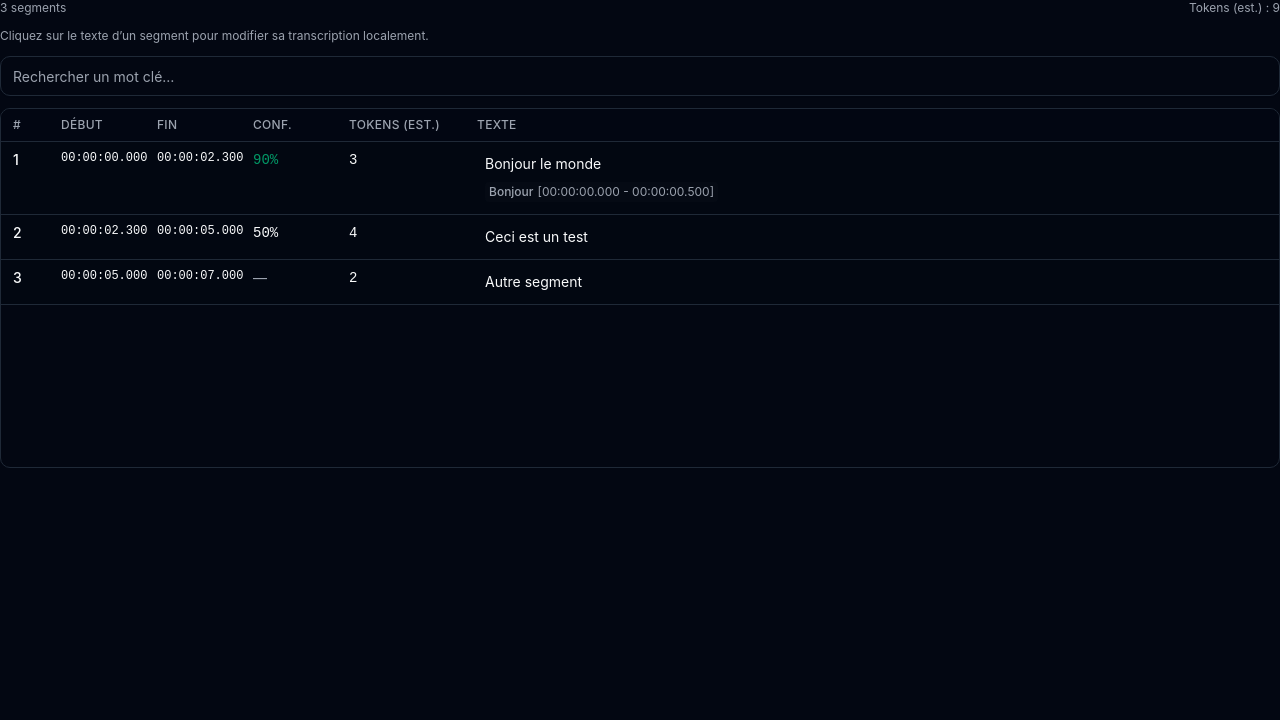
ResultsTable › opens a segment editor and applies the edited text
Click the button with aria-label "modifier le segment 1" at (543, 164), box [477,150,1029,206]
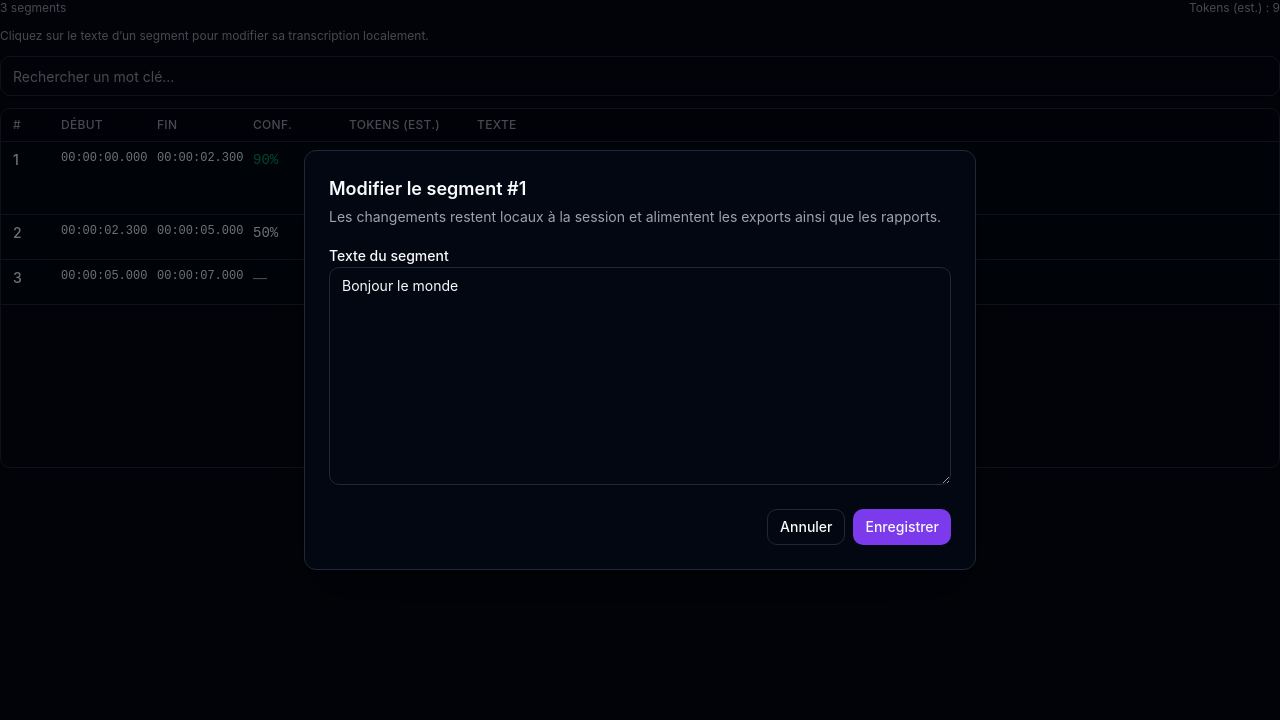
Result: the dialog is shown at [304,150,976,570]
Replace the text in the text box labelled "Texte du segment" with "Bonjour modifié" at (640, 376), box [329,267,951,485]
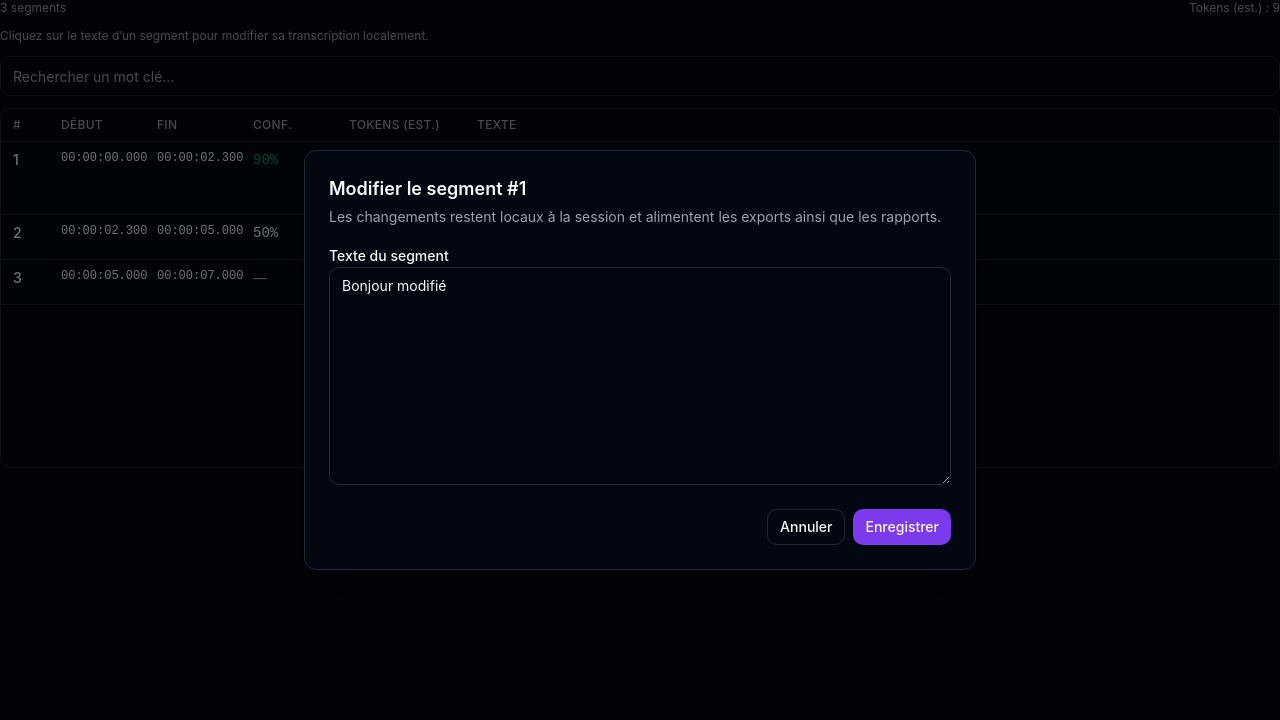
Click the button "Enregistrer" at (902, 527), box [854,509,951,545]
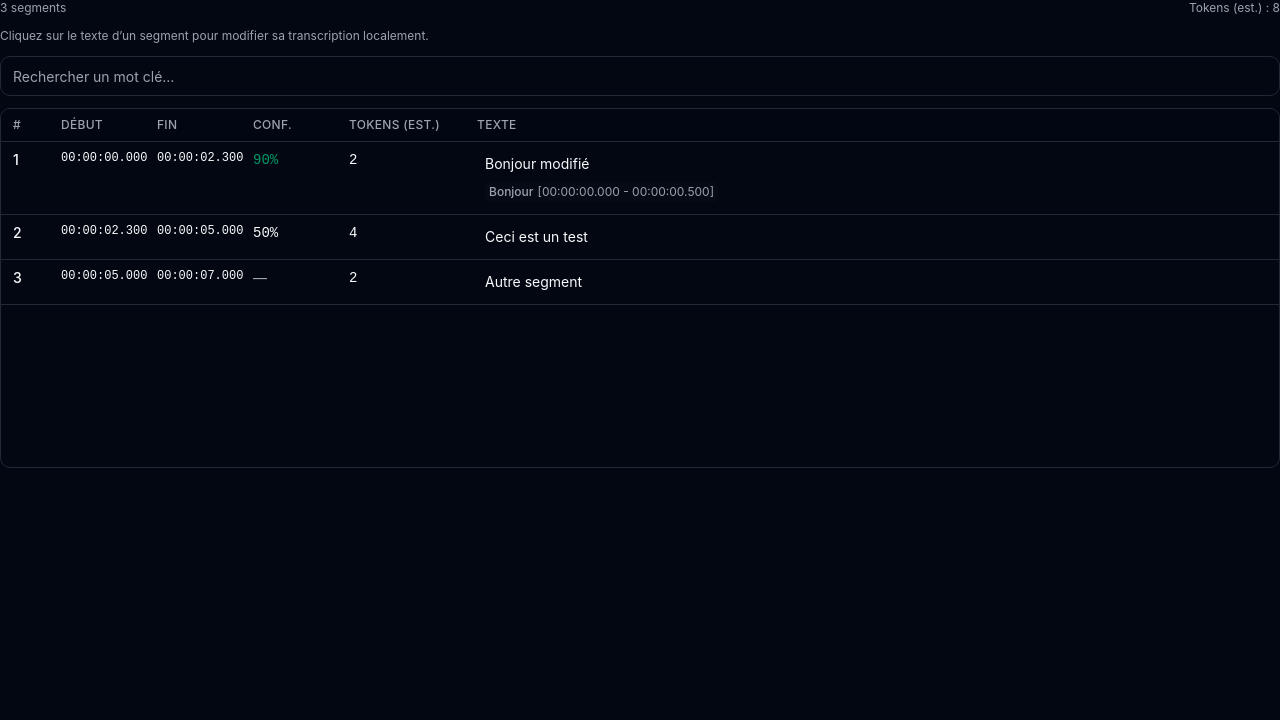
Result: the text "Bonjour modifié" is shown at [485,155,590,172]
